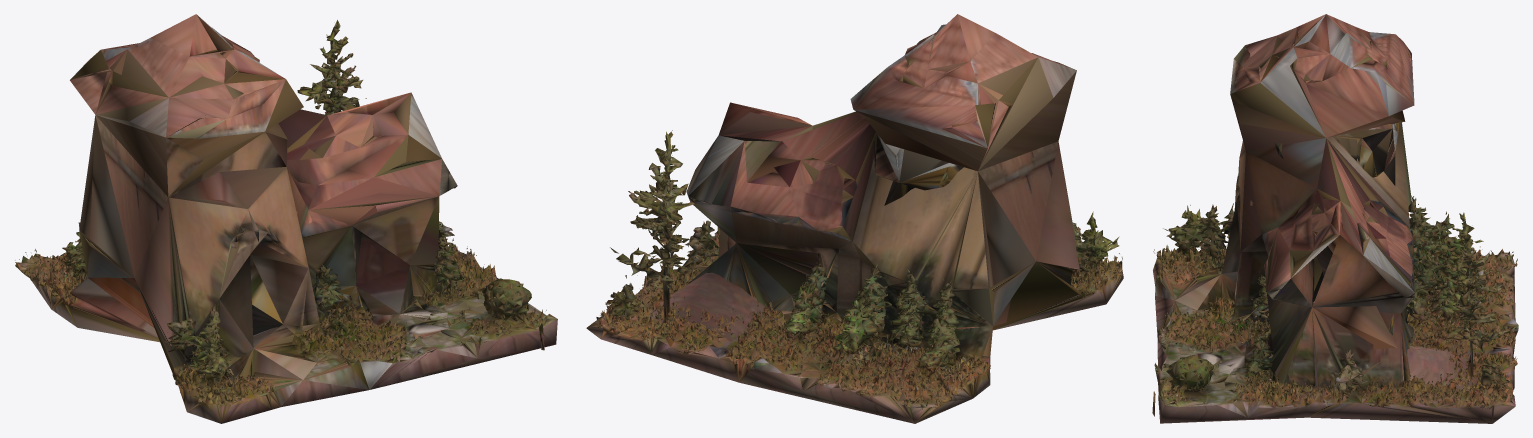
File: Vintage_Stone_Villa.glb
The picture shows the model from 3 angles, left to right: view 1: azimuth 30°, elevation 25°; view 2: azimuth 150°, elevation 25°; view 3: azimuth 270°, elevation 25°; orthographic projection. The views are drawn at different scales.
Parts seen in each view (by area): view 1: Vintage_Stone_Villa; view 2: Vintage_Stone_Villa; view 3: Vintage_Stone_Villa.
Boxes of the visible parts, x1,y1,x2,y2 form: Vintage_Stone_Villa: [15, 14, 557, 423]; Vintage_Stone_Villa: [586, 14, 1123, 423]; Vintage_Stone_Villa: [1152, 14, 1518, 423].
Bounding box in the file's own units: 1.88 × 1.64 × 1.86.
Materials: 1 (1 with a texture image).
